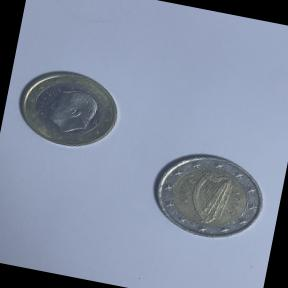1 Euro-B: (7, 58, 128, 159)
2 Euro-B: (138, 142, 274, 252)
